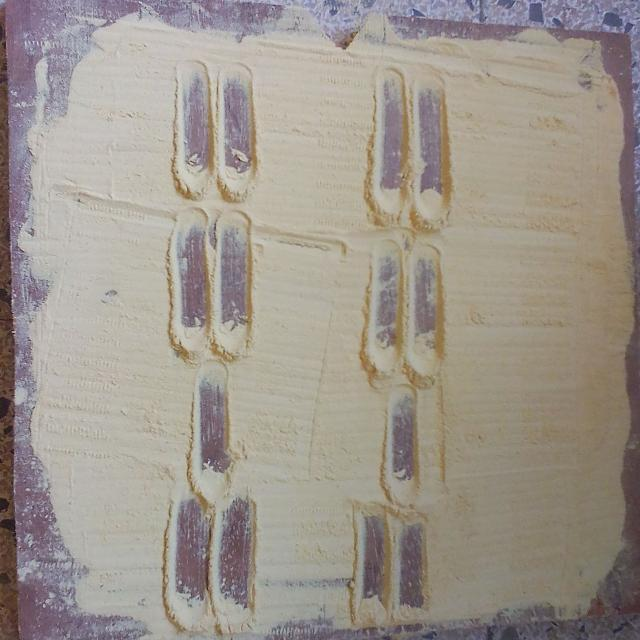double: (163, 483, 264, 604), (168, 205, 256, 332), (374, 67, 452, 197), (178, 53, 258, 176), (368, 242, 444, 352), (349, 507, 432, 606)
single: (189, 374, 236, 476), (388, 383, 424, 493)
